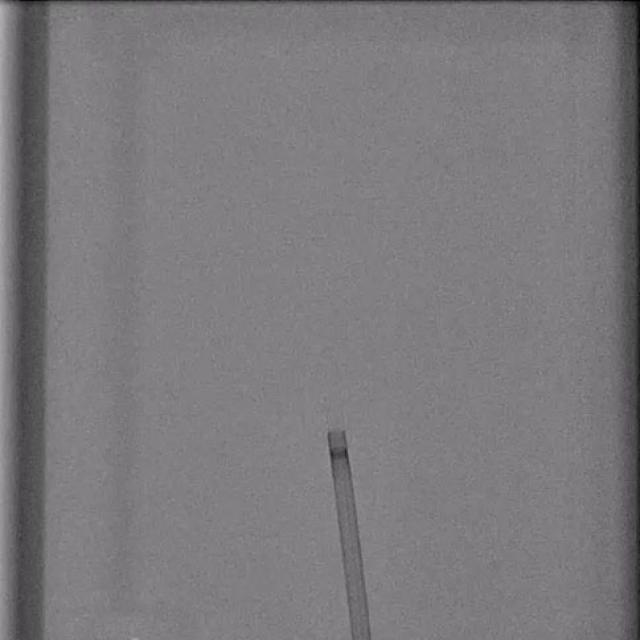entry: (351, 634, 371, 640)
marker: (330, 445, 350, 461)
tip: (328, 430, 345, 435)
